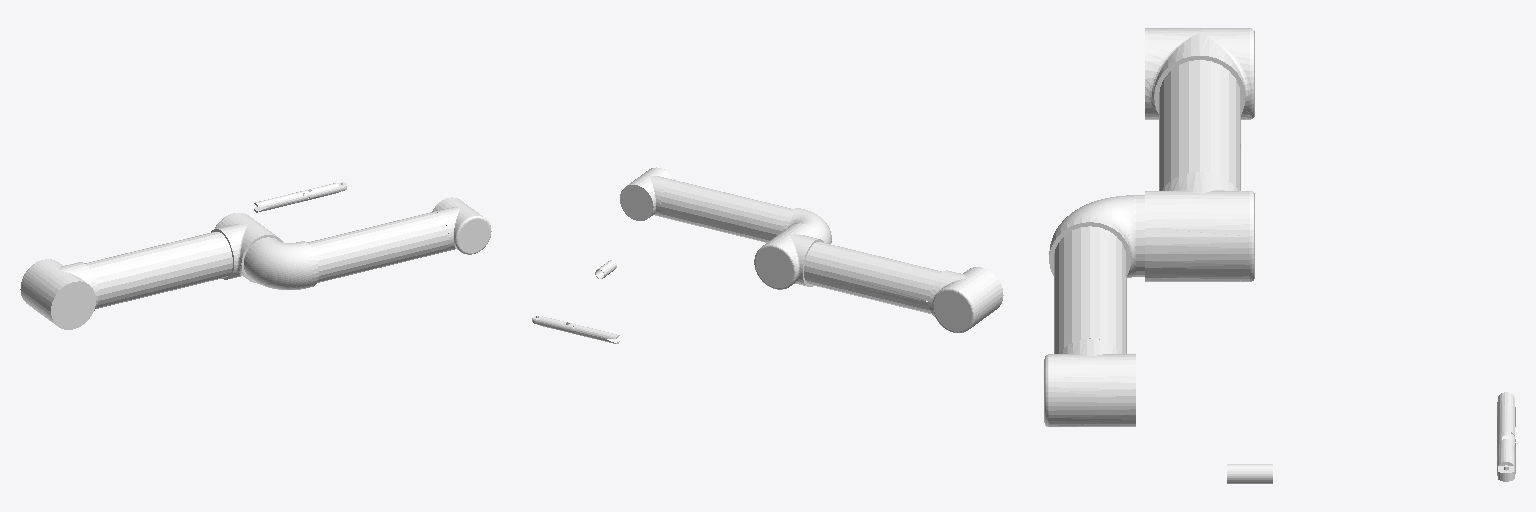
robot.urdf — dofnine3:
<?xml version="1.0" encoding="utf-8"?>
<!-- This URDF was automatically created by SolidWorks to URDF Exporter! Originally created by [author] ([email redacted]) 
     Commit Version: 1.5.1-0-g916b5db  Build Version: 1.5.7152.31018
     For more information, please see http://wiki.ros.org/sw_urdf_exporter -->
<robot
  name="dofnine3">
  <link
    name="base_link">
    <inertial>
      <origin
        xyz="9.16694840266287E-19 0.000618795169331327 0.0130802854264847"
        rpy="0 0 0" />
      <mass
        value="0.382463662284906" />
      <inertia
        ixx="0.000436715101142595"
        ixy="-5.13379791175437E-21"
        ixz="6.91673726804431E-21"
        iyy="0.000451031799669551"
        iyz="7.29000884268053E-07"
        izz="0.000837893536635359" />
    </inertial>
    <visual>
      <origin
        xyz="0 0 0"
        rpy="0 0 0" />
      <geometry>
        <mesh
          filename="package://dofnine3/meshes/base_link.STL" />
      </geometry>
      <material
        name="">
        <color
          rgba="1 1 1 1" />
      </material>
    </visual>
    <collision>
      <origin
        xyz="0 0 0"
        rpy="0 0 0" />
      <geometry>
        <mesh
          filename="package://dofnine3/meshes/base_link.STL" />
      </geometry>
    </collision>
  </link>

  <link
    name="Link1">
    <inertial>
      <origin
        xyz="4.2686E-10 -8.9895E-05 0.0063042"
        rpy="0 0 0" />
      <mass
        value="1.0794" />
      <inertia
        ixx="0.0020879"
        ixy="-1.4826E-10"
        ixz="3.8162E-10"
        iyy="0.0016041"
        iyz="-6.1066E-07"
        izz="0.0019142" />
    </inertial>
    <visual>
      <origin
        xyz="0 0 0"
        rpy="0 0 0" />
      <geometry>
        <mesh
          filename="package://dofnine3/meshes/Link1.STL" />
      </geometry>
      <material
        name="">
        <color
          rgba="1 1 1 1" />
      </material>
    </visual>
    <collision>
      <origin
        xyz="0 0 0"
        rpy="0 0 0" />
      <geometry>
        <mesh
          filename="package://dofnine3/meshes/Link1.STL" />
      </geometry>
    </collision>
  </link>

  <joint
    name="joint1"
    type="revolute">
    <origin
      xyz="0 0 0.09"
      rpy="1.5708 0 3.1416" />
    <parent
      link="base_link" />
    <child
      link="Link1" />
    <axis
      xyz="0 1 0" />
    <limit
      lower="-3.14"
      upper="3.14"
      effort="100"
      velocity="3" />
  </joint>

  <link
    name="Link2">
    <inertial>
      <origin
        xyz="-0.210005372073954 -6.72978339721908E-12 0.119922540954011"
        rpy="0 0 0" />
      <mass
        value="2.55928066457366" />
      <inertia
        ixx="0.00455429949615839"
        ixy="9.5235852027459E-10"
        ixz="5.85104824094678E-07"
        iyy="0.0971147033093044"
        iyz="7.88752118663884E-13"
        izz="0.0961474311368105" />
    </inertial>
    <visual>
      <origin
        xyz="0 0 0"
        rpy="0 0 0" />
      <geometry>
        <mesh
          filename="package://dofnine3/meshes/Link2.STL" />
      </geometry>
      <material
        name="">
        <color
          rgba="1 1 1 1" />
      </material>
    </visual>
    <collision>
      <origin
        xyz="0 0 0"
        rpy="0 0 0" />
      <geometry>
        <mesh
          filename="package://dofnine3/meshes/Link2.STL" />
      </geometry>
    </collision>
  </link>

  <joint
    name="joint2"
    type="revolute">
    <origin
      xyz="0 0 0"
      rpy="0 0 0" />
    <parent
      link="Link1" />
    <child
      link="Link2" />
    <axis
      xyz="0 0 1" />
    <limit
      lower="-3.14"
      upper="3.14"
      effort="100"
      velocity="3" />
  </joint>

  <link
    name="Link3">
    <inertial>
      <origin
        xyz="-0.2583 9.2942E-08 0.002554"
        rpy="0 0 0" />
      <mass
        value="1.1711" />
      <inertia
        ixx="0.0016101"
        ixy="-1.5519E-08"
        ixz="-0.00077549"
        iyy="0.030627"
        iyz="2.7799E-08"
        izz="0.030394" />
    </inertial>
    <visual>
      <origin
        xyz="0 0 0"
        rpy="0 0 0" />
      <geometry>
        <mesh
          filename="package://dofnine3/meshes/Link3.STL" />
      </geometry>
      <material
        name="">
        <color
          rgba="1 1 1 1" />
      </material>
    </visual>
    <collision>
      <origin
        xyz="0 0 0"
        rpy="0 0 0" />
      <geometry>
        <mesh
          filename="package://dofnine3/meshes/Link3.STL" />
      </geometry>
    </collision>
  </link>
  <joint
    name="joint3"
    type="revolute">
    <origin
      xyz="-0.42 0 0"
      rpy="0 0 0" />
    <parent
      link="Link2" />
    <child
      link="Link3" />
    <axis
      xyz="0 0 1" />
    <limit
      lower="-3.14"
      upper="3.14"
      effort="100"
      velocity="3" />
  </joint>
  <link
    name="Link4">
    <inertial>
      <origin
        xyz="1.2298E-09 -0.0056137 0.00011006"
        rpy="0 0 0" />
      <mass
        value="0.58201" />
      <inertia
        ixx="0.0007618"
        ixy="1.4963E-11"
        ixz="4.4791E-11"
        iyy="0.00068944"
        iyz="-3.5959E-07"
        izz="0.00056434" />
    </inertial>
    <visual>
      <origin
        xyz="0 0 0"
        rpy="0 0 0" />
      <geometry>
        <mesh
          filename="package://dofnine3/meshes/Link4.STL" />
      </geometry>
      <material
        name="">
        <color
          rgba="1 1 1 1" />
      </material>
    </visual>
    <collision>
      <origin
        xyz="0 0 0"
        rpy="0 0 0" />
      <geometry>
        <mesh
          filename="package://dofnine3/meshes/Link4.STL" />
      </geometry>
    </collision>
  </link>
  <joint
    name="joint4"
    type="revolute">
    <origin
      xyz="-0.4 0 0.1"
      rpy="1.5708 0 0" />
    <parent
      link="Link3" />
    <child
      link="Link4" />
    <axis
      xyz="0 -1 0" />
    <limit
      lower="-3.14"
      upper="3.14"
      effort="100"
      velocity="3" />
  </joint>
  <link
    name="Link5">
    <inertial>
      <origin
        xyz="-1.1025E-09 0.0060608 -0.00087677"
        rpy="0 0 0" />
      <mass
        value="0.53907" />
      <inertia
        ixx="0.00070005"
        ixy="2.8082E-11"
        ixz="-3.7536E-11"
        iyy="0.00062916"
        iyz="-2.8643E-06"
        izz="0.00054563" />
    </inertial>
    <visual>
      <origin
        xyz="0 0 0"
        rpy="0 0 0" />
      <geometry>
        <mesh
          filename="package://dofnine3/meshes/Link5.STL" />
      </geometry>
      <material
        name="">
        <color
          rgba="1 1 1 1" />
      </material>
    </visual>
    <collision>
      <origin
        xyz="0 0 0"
        rpy="0 0 0" />
      <geometry>
        <mesh
          filename="package://dofnine3/meshes/Link5.STL" />
      </geometry>
    </collision>
  </link>
  <joint
    name="joint5"
    type="revolute">
    <origin
      xyz="0 0 0.1"
      rpy="-1.5708 0 0" />
    <parent
      link="Link4" />
    <child
      link="Link5" />
    <axis
      xyz="0 -1 0" />
    <limit
      lower="-3.14"
      upper="3.14"
      effort="100"
      velocity="3" />
  </joint>
  <link
    name="Link6">
    <inertial>
      <origin
        xyz="-1.1102E-16 4.6838E-17 -0.025"
        rpy="0 0 0" />
      <mass
        value="0.0032987" />
      <inertia
        ixx="8.6948E-07"
        ixy="2.1788E-37"
        ixz="2.8893E-22"
        iyy="8.6948E-07"
        iyz="2.8375E-23"
        izz="3.645E-07" />
    </inertial>
    <visual>
      <origin
        xyz="0 0 0"
        rpy="0 0 0" />
      <geometry>
        <mesh
          filename="package://dofnine3/meshes/Link6.STL" />
      </geometry>
      <material
        name="">
        <color
          rgba="1 1 1 1" />
      </material>
    </visual>
    <collision>
      <origin
        xyz="0 0 0"
        rpy="0 0 0" />
      <geometry>
        <mesh
          filename="package://dofnine3/meshes/Link6.STL" />
      </geometry>
    </collision>
  </link>
  <joint
    name="joint6"
    type="revolute">
    <origin
      xyz="0 0 0.1"
      rpy="0 0 0" />
    <parent
      link="Link5" />
    <child
      link="Link6" />
    <axis
      xyz="0 0 1" />
    <limit
      lower="-3.14"
      upper="3.14"
      effort="100"
      velocity="3" />
  </joint>
  <link
    name="Link7">
    <inertial>
      <origin
        xyz="3.1885E-09 -0.29766 2.9817E-08"
        rpy="0 0 0" />
      <mass
        value="0.18362" />
      <inertia
        ixx="0.0052429"
        ixy="-1.4282E-10"
        ixz="2.891E-13"
        iyy="9.233E-06"
        iyz="-1.3378E-09"
        izz="0.0052429" />
    </inertial>
    <visual>
      <origin
        xyz="0 0 0"
        rpy="0 0 0" />
      <geometry>
        <mesh
          filename="package://dofnine3/meshes/Link7.STL" />
      </geometry>
      <material
        name="">
        <color
          rgba="1 1 1 1" />
      </material>
    </visual>
    <collision>
      <origin
        xyz="0 0 0"
        rpy="0 0 0" />
      <geometry>
        <mesh
          filename="package://dofnine3/meshes/Link7.STL" />
      </geometry>
    </collision>
  </link>
  <joint
    name="joint7"
    type="prismatic">
    <origin
      xyz="0 0 0"
      rpy="1.5708 0 0" />
    <parent
      link="Link6" />
    <child
      link="Link7" />
    <axis
      xyz="0 1 0" />
    <limit
      lower="0.01"
      upper="0.5"
      effort="100"
      velocity="3" />
  </joint>
  <link
    name="Link8">
    <inertial>
      <origin
        xyz="0.036752 3.9744E-08 4.6718E-09"
        rpy="0 0 0" />
      <mass
        value="0.023875" />
      <inertia
        ixx="1.1971E-06"
        ixy="-3.8291E-11"
        ixz="-4.4295E-12"
        iyy="1.4442E-05"
        iyz="-8.1423E-14"
        izz="1.4588E-05" />
    </inertial>
    <visual>
      <origin
        xyz="0 0 0"
        rpy="0 0 0" />
      <geometry>
        <mesh
          filename="package://dofnine3/meshes/Link8.STL" />
      </geometry>
      <material
        name="">
        <color
          rgba="1 1 1 1" />
      </material>
    </visual>
    <collision>
      <origin
        xyz="0 0 0"
        rpy="0 0 0" />
      <geometry>
        <mesh
          filename="package://dofnine3/meshes/Link8.STL" />
      </geometry>
    </collision>
  </link>
  <joint
    name="joint8"
    type="revolute">
    <origin
      xyz="0 0 0"
      rpy="0 0 0" />
    <parent
      link="Link7" />
    <child
      link="Link8" />
    <axis
      xyz="0 0 -1" />
    <limit
      lower="-3.14"
      upper="3.14"
      effort="100"
      velocity="3" />
  </joint>
  <link
    name="Link9">
    <inertial>
      <origin
        xyz="0.050963 3.9899E-17 -5.5511E-17"
        rpy="0 0 0" />
      <mass
        value="0.033078" />
      <inertia
        ixx="1.6325E-06"
        ixy="1.3136E-21"
        ixz="-1.9812E-19"
        iyy="3.3309E-05"
        iyz="-3.0308E-21"
        izz="3.3424E-05" />
    </inertial>
    <visual>
      <origin
        xyz="0 0 0"
        rpy="0 0 0" />
      <geometry>
        <mesh
          filename="package://dofnine3/meshes/Link9.STL" />
      </geometry>
      <material
        name="">
        <color
          rgba="1 1 1 1" />
      </material>
    </visual>
    <collision>
      <origin
        xyz="0 0 0"
        rpy="0 0 0" />
      <geometry>
        <mesh
          filename="package://dofnine3/meshes/Link9.STL" />
      </geometry>
    </collision>
  </link>
  <joint
    name="joint9"
    type="revolute">
    <origin
      xyz="0.08 0 0"
      rpy="-1.5708 0 0" />
    <parent
      link="Link8" />
    <child
      link="Link9" />
    <axis
      xyz="0 0 1" />
    <limit
      lower="-3.14"
      upper="3.14"
      effort="100"
      velocity="3" />
  </joint>
</robot>

--- What the picture shows (computed from the rendered views, not written in the file) ---
The picture shows the robot from 3 angles, left to right: view 1: azimuth 30°, elevation 25°; view 2: azimuth 150°, elevation 25°; view 3: azimuth 270°, elevation 25°; orthographic projection.
Model dofnine3 with 10 links and 9 joints (8 revolute, 1 prismatic), rooted at base_link, posed all joints at 0 but 1 set to mid-range because 0 is outside their limits (joint7 = 0.255).
Links seen in each view (by area): view 1: Link2, Link3, Link9; view 2: Link2, Link3; view 3: Link2, Link3, Link6, Link8, Link9.
Boxes of the visible links, <box> form: Link2: <box>20,213,283,329</box>; Link3: <box>244,197,491,289</box>; Link9: <box>254,190,308,212</box>; Link2: <box>754,223,1003,332</box>; Link3: <box>620,167,831,243</box>; Link2: <box>1145,28,1254,281</box>; Link3: <box>1044,195,1144,426</box>; Link6: <box>1227,464,1272,483</box>; Link8: <box>1497,434,1515,481</box>; Link9: <box>1497,392,1515,439</box>.
Bounding box of the posed robot: 0.91 × 0.515 × 0.161 m (x, y, z).
5 mesh visuals loaded from 10 distinct referenced files (5 binary STL); not drawn: 5 (reference not matched to a file when rendering).
